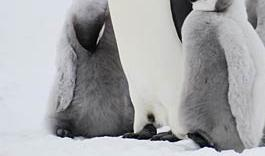Emperor Penguin: (74, 0, 238, 136)
